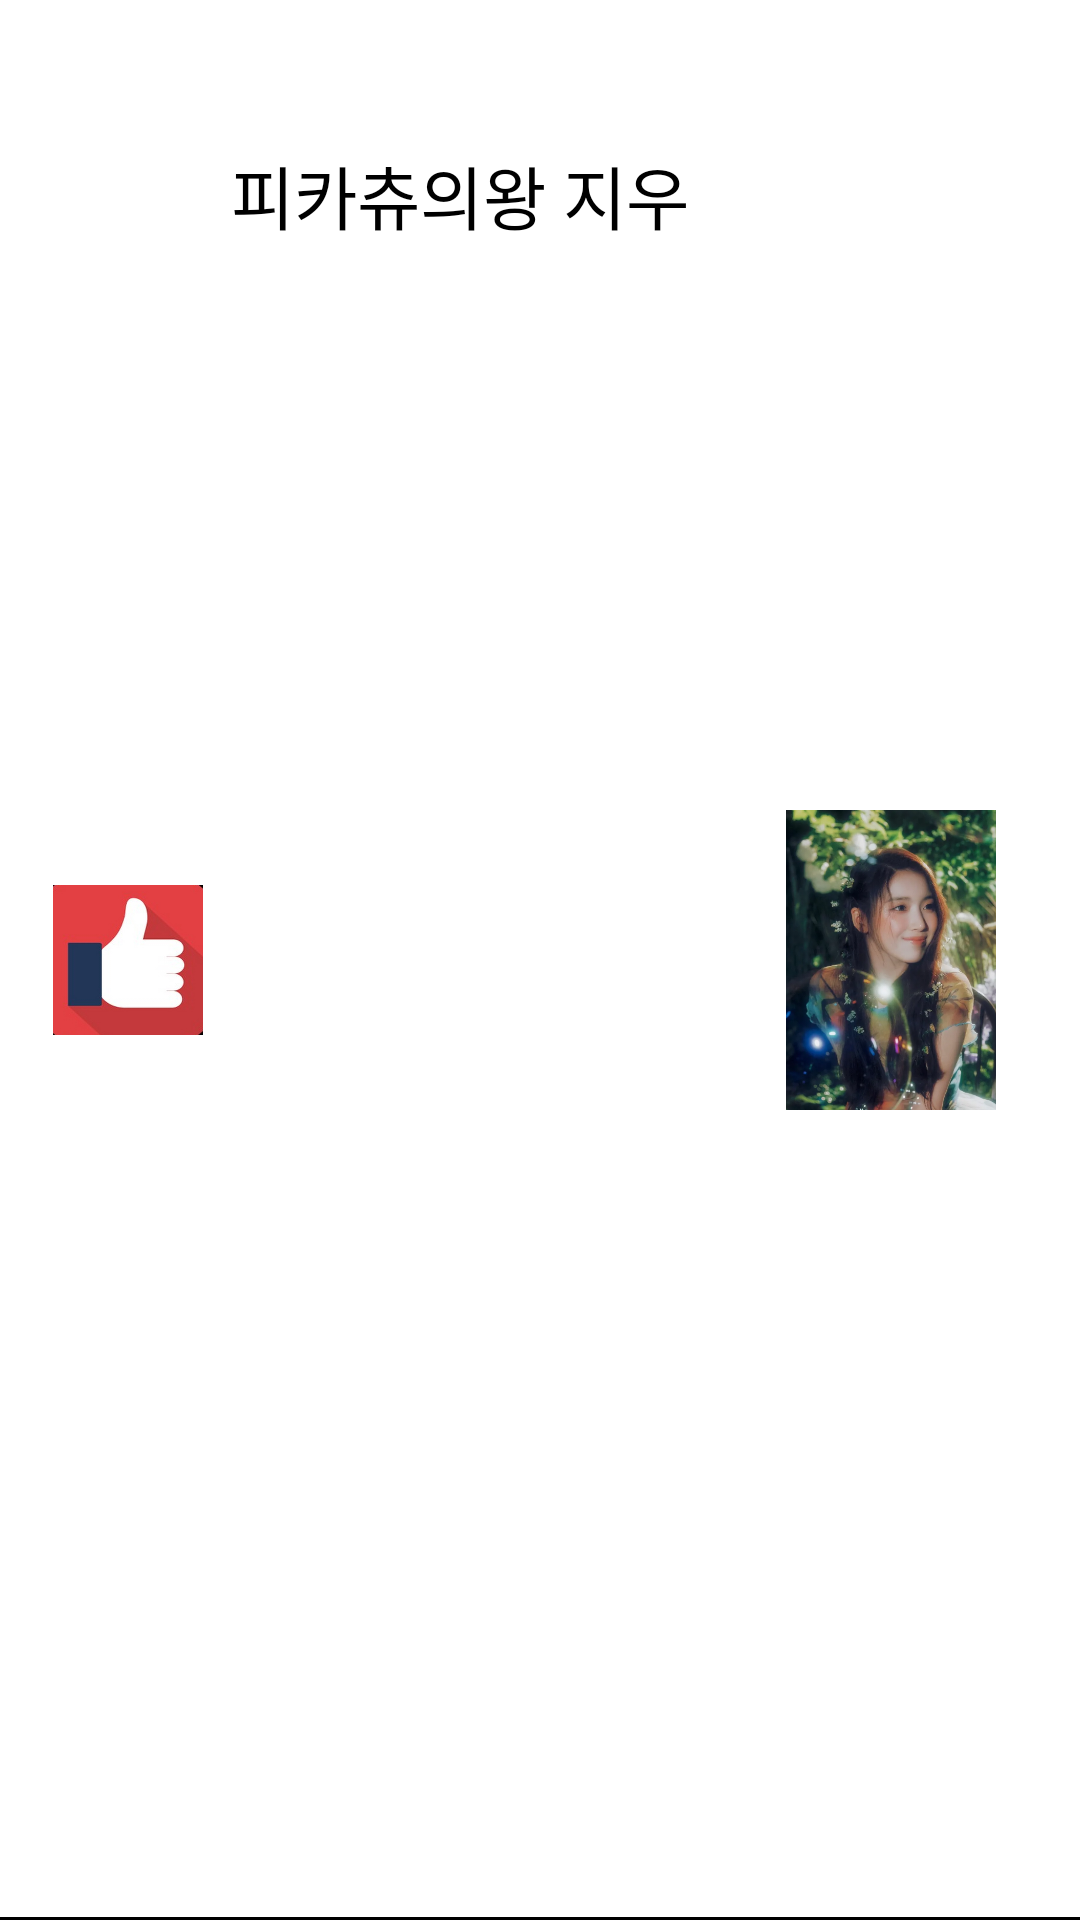

Icon bounding boxes for this 1080×1920 phone screenshot, format detection(x1, y1, x2, y2):
like: detection(53, 885, 203, 1035)
